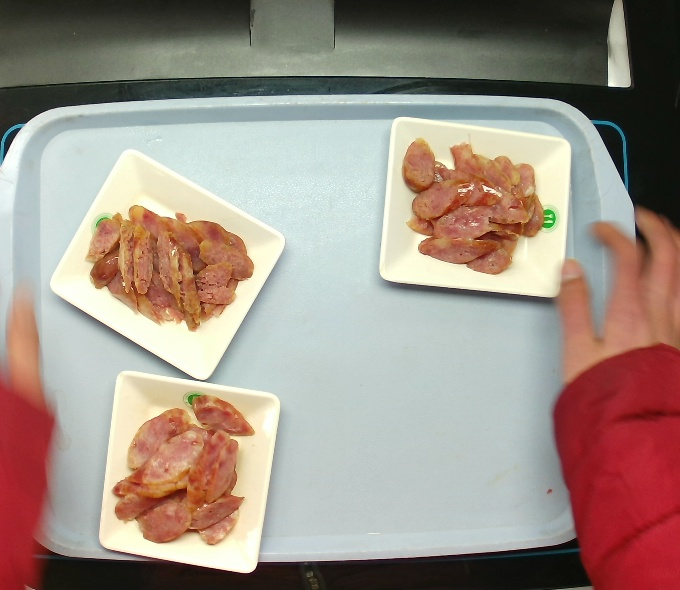wcq-QiePianXiangChang: (82, 197, 261, 336), (391, 130, 553, 280), (110, 395, 255, 555)
